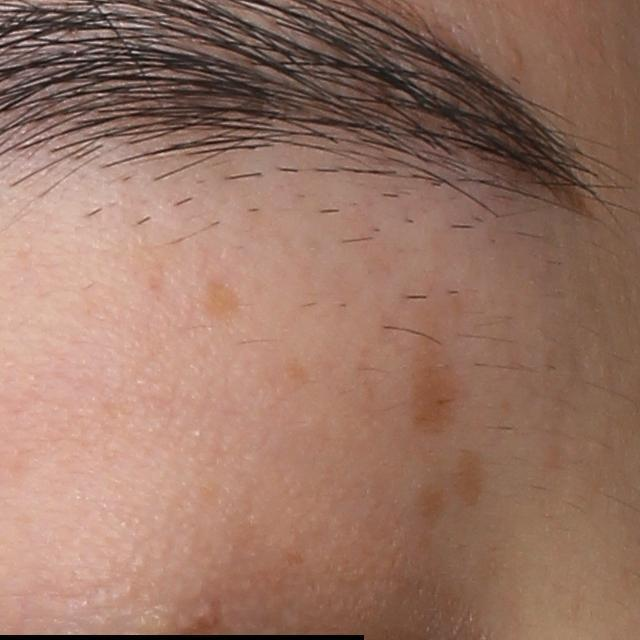melasma: (409, 310, 458, 436), (192, 285, 246, 327), (451, 445, 482, 504), (409, 480, 440, 525)
